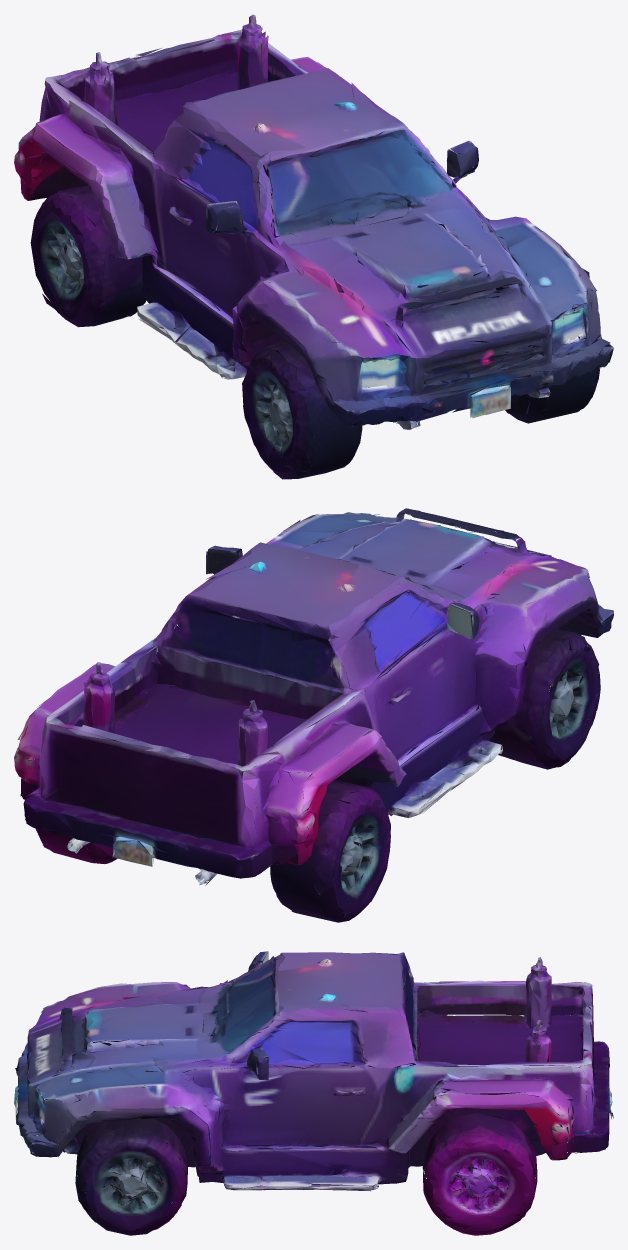
File: timeattack_armor2.glb
3 views of the same model, one above another, from view 1: azimuth 30°, elevation 25°; view 2: azimuth 150°, elevation 25°; view 3: azimuth 270°, elevation 25° (orthographic). The views are drawn at different scales.
Visible parts, largest first — view 1: Armor_Time_Attack.001; view 2: Armor_Time_Attack.001; view 3: Armor_Time_Attack.001.
Part boxes in pixels (left/top/right/bottom): Armor_Time_Attack.001: left=14, top=14, right=613, bottom=479; Armor_Time_Attack.001: left=14, top=508, right=613, bottom=922; Armor_Time_Attack.001: left=14, top=951, right=613, bottom=1235.
Bounding box in the file's own units: 0.5896 × 0.4494 × 1.21.
1 material, 1 textured.
